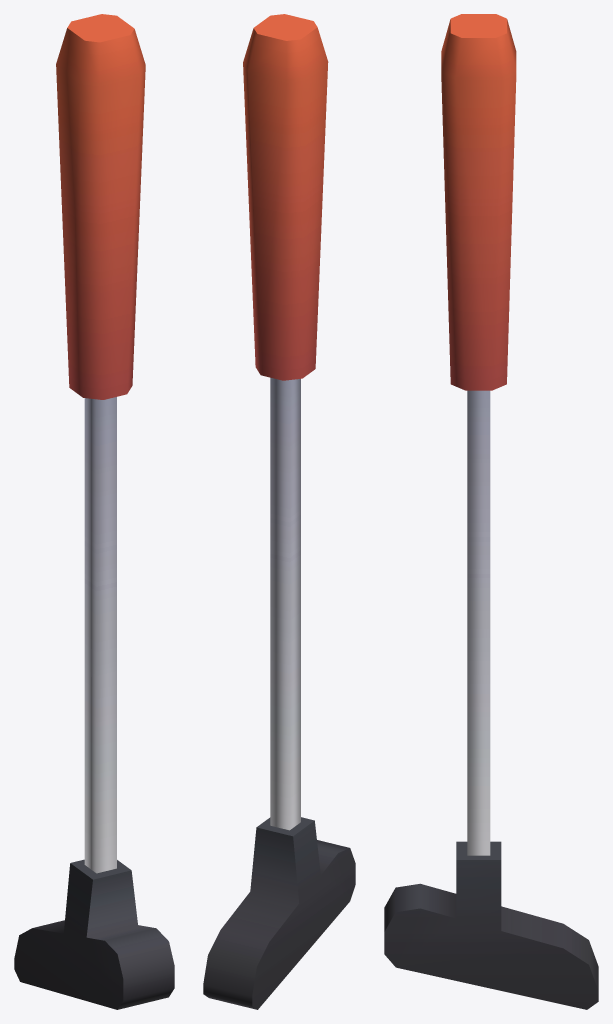
File: golfklubba.glb
3 renders of one model, left to right at view 1: azimuth 30°, elevation 25°; view 2: azimuth 150°, elevation 25°; view 3: azimuth 270°, elevation 25°, orthographic. The views are drawn at different scales.
Parts seen in each view (by area): view 1: club-red; view 2: club-red; view 3: club-red.
Part boxes in pixels (x1,y1,x2,y2): club-red: (14,14,174,1009); club-red: (203,14,355,1009); club-red: (384,14,598,1009).
Size of the model in its own units: 0.0737 by 1.05 by 0.2102.
Materials: 1 (1 with a texture image).
